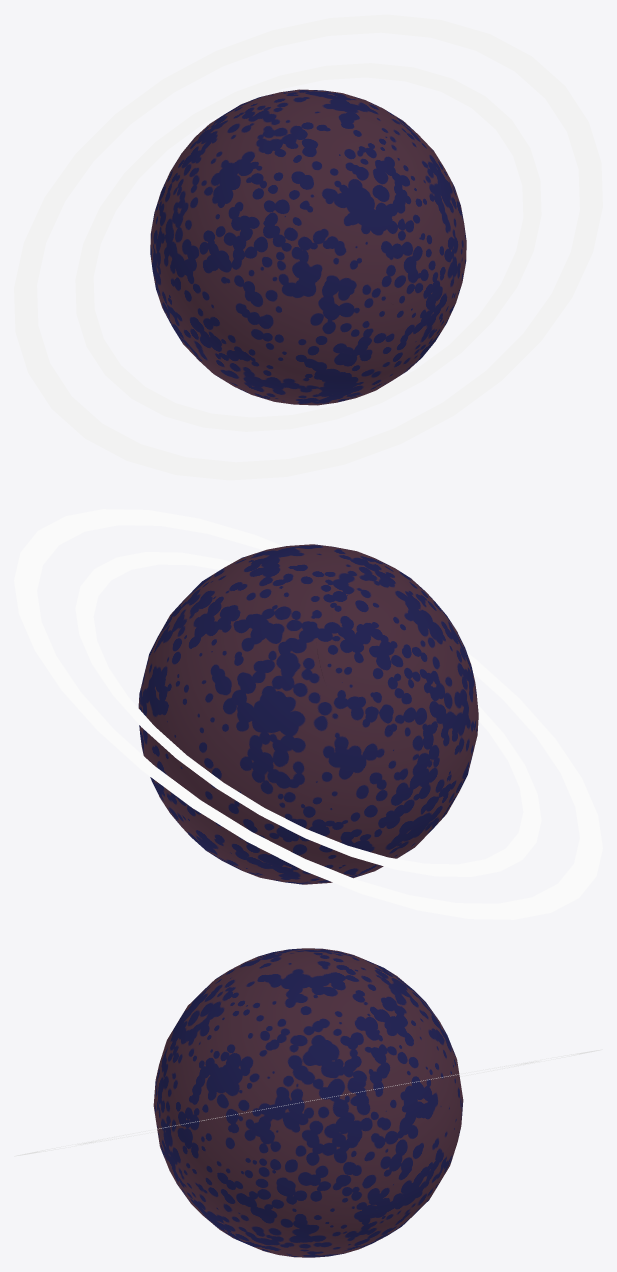
The model's file is maroonPlanet.glb.
3 views of the same model, one above another, from view 1: azimuth 30°, elevation 25°; view 2: azimuth 150°, elevation 25°; view 3: azimuth 270°, elevation 25° (orthographic). The views are drawn at different scales.
Visible parts, largest first — view 1: Sphere.002, Circle.001; view 2: Sphere.002, Circle.001; view 3: Sphere.002, Circle.001.
Part boxes in pixels (bbox=[...]): Sphere.002: bbox=[150, 89, 466, 405]; Circle.001: bbox=[14, 14, 602, 480]; Sphere.002: bbox=[138, 544, 478, 884]; Circle.001: bbox=[14, 509, 602, 919]; Sphere.002: bbox=[153, 948, 463, 1257]; Circle.001: bbox=[14, 1049, 602, 1156].
Bounding box in the file's own units: 2.73 × 1.55 × 2.95.
Materials: 2 (2 with a texture image).
